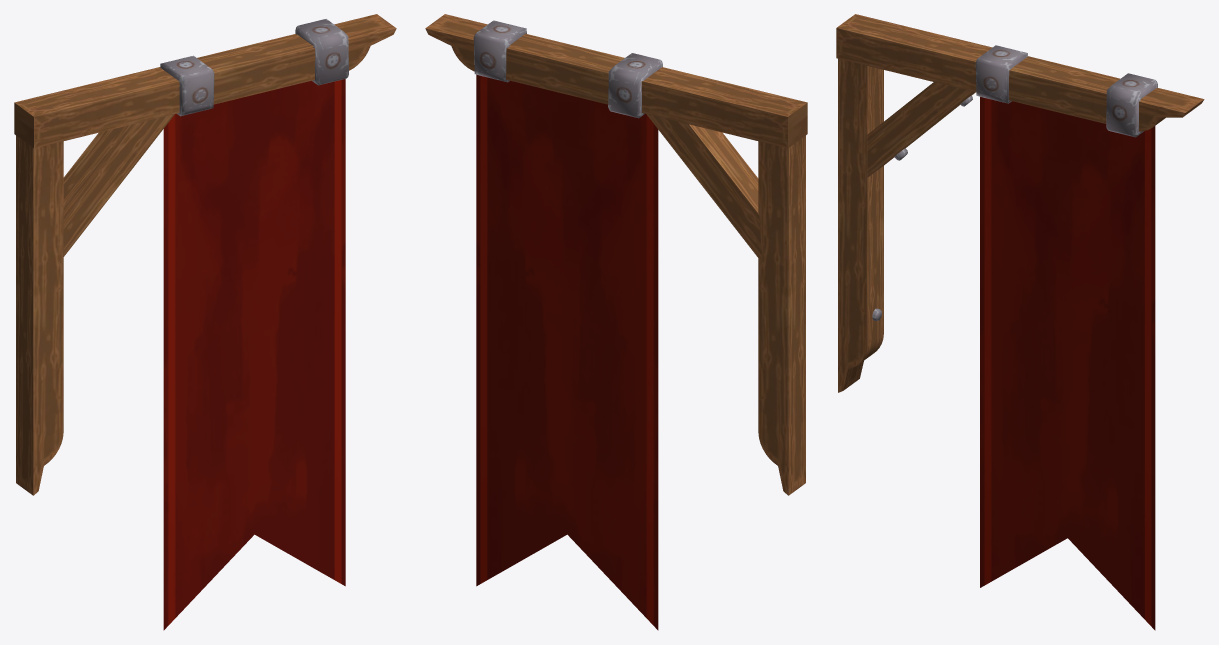
File: Banner_1.gltf
3 views of the same model, side by side, from view 1: azimuth 30°, elevation 25°; view 2: azimuth 150°, elevation 25°; view 3: azimuth 330°, elevation 25° (orthographic). The views are drawn at different scales.
Visible parts, largest first — view 1: Banner_1; view 2: Banner_1; view 3: Banner_1.
Boxes of the visible parts, x1,y1,x2,y2 form: Banner_1: [14, 14, 396, 630]; Banner_1: [425, 14, 807, 630]; Banner_1: [836, 14, 1204, 630].
Bounding box in the file's own units: 1.61 × 2.39 × 0.1906.
3 materials, 3 textured.
